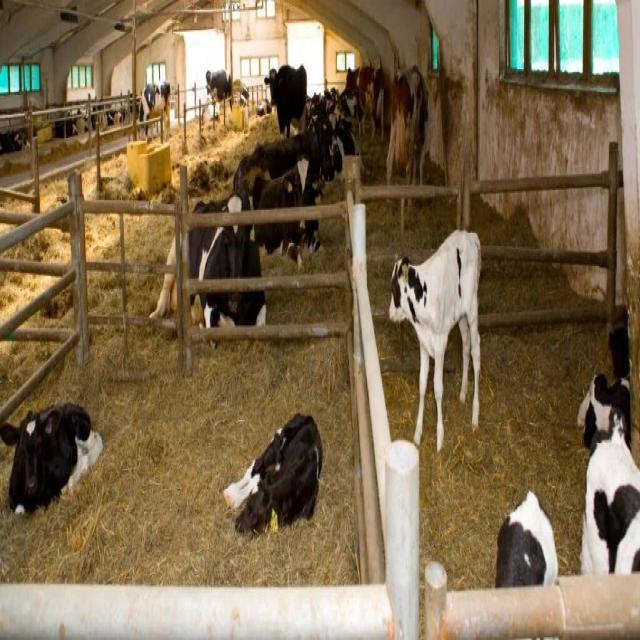cow: (388, 227, 481, 453), (148, 186, 266, 350), (576, 371, 640, 575), (222, 410, 322, 536), (0, 400, 103, 515), (251, 155, 324, 269), (494, 489, 558, 588), (385, 62, 430, 197), (264, 62, 307, 138), (205, 68, 248, 120), (138, 78, 170, 141)
